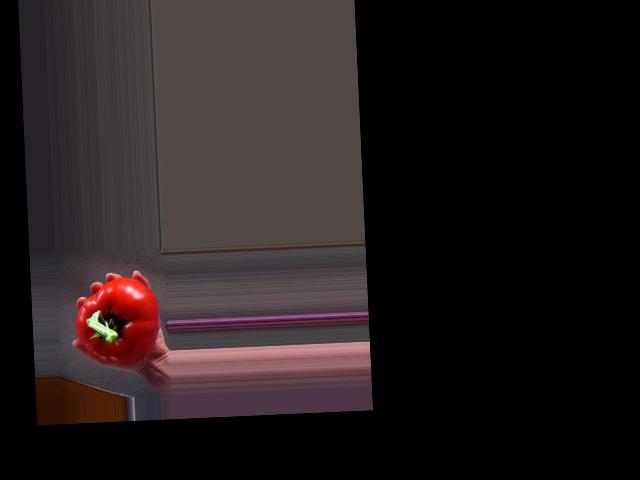tomato: (73, 275, 162, 366)
